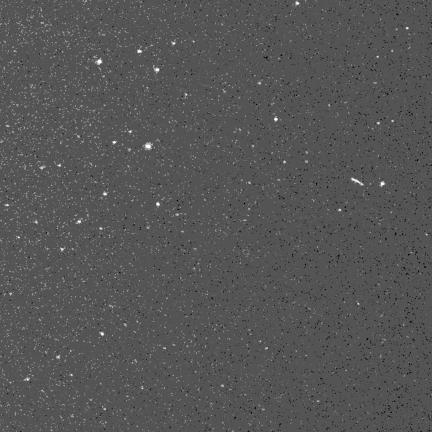blob: (274, 117, 278, 121), (103, 192, 107, 196), (100, 332, 104, 336), (138, 49, 142, 53), (157, 202, 160, 206), (406, 27, 409, 30), (113, 141, 116, 144)
